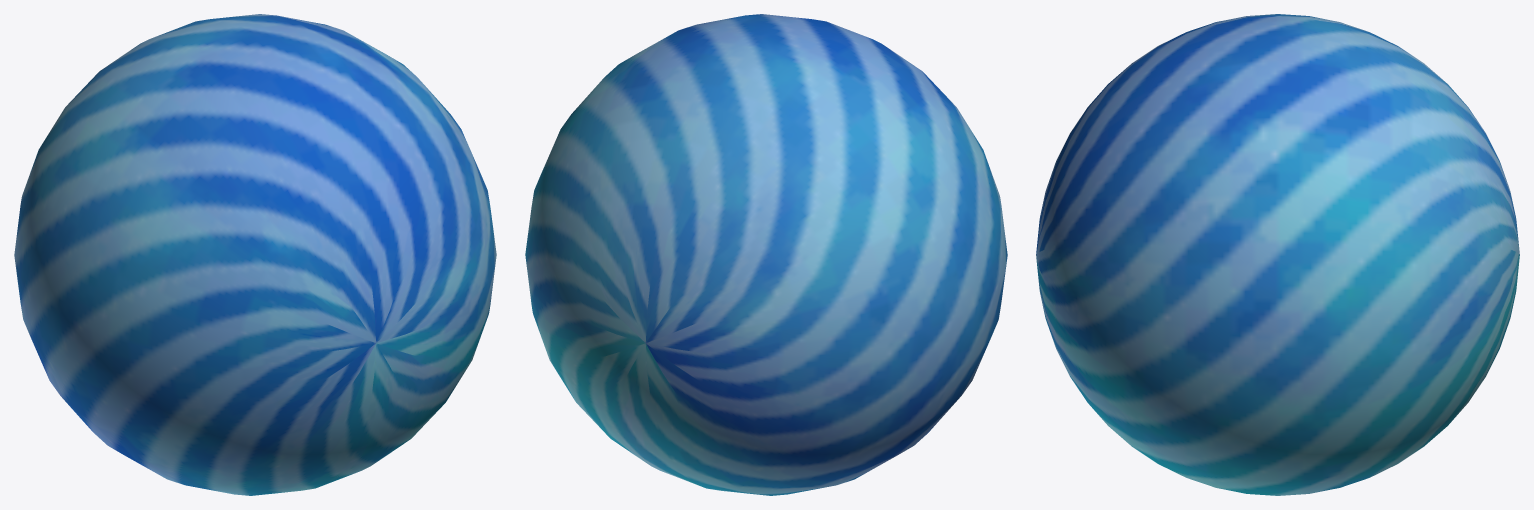
Rendered from ball.glb.
3 renders of one model, left to right at view 1: azimuth 30°, elevation 25°; view 2: azimuth 150°, elevation 25°; view 3: azimuth 270°, elevation 25°, orthographic.
Visible parts, largest first — view 1: polygon0; view 2: polygon0; view 3: polygon0.
Part boxes in pixels (x1,y1,x2,y2): polygon0: (14, 14, 496, 495); polygon0: (525, 14, 1007, 495); polygon0: (1036, 14, 1519, 495).
Bounding box in the file's own units: 1 × 1 × 1.
Materials: 1 (1 with a texture image).
